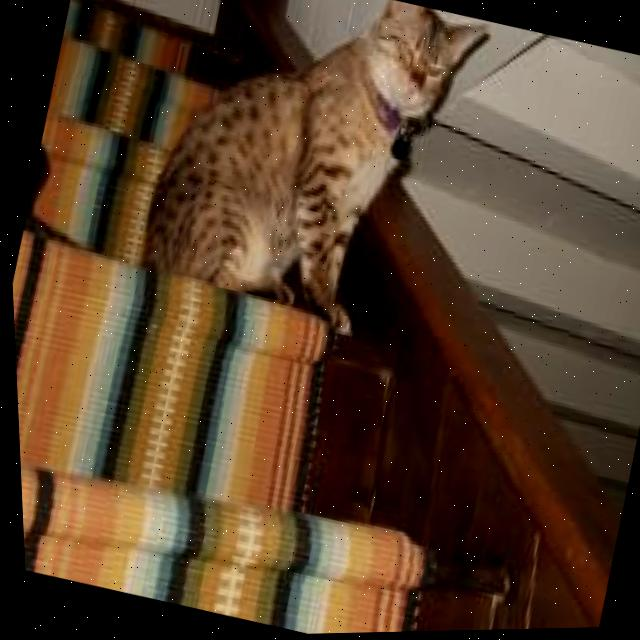Bengal: (3, 0, 504, 368)
